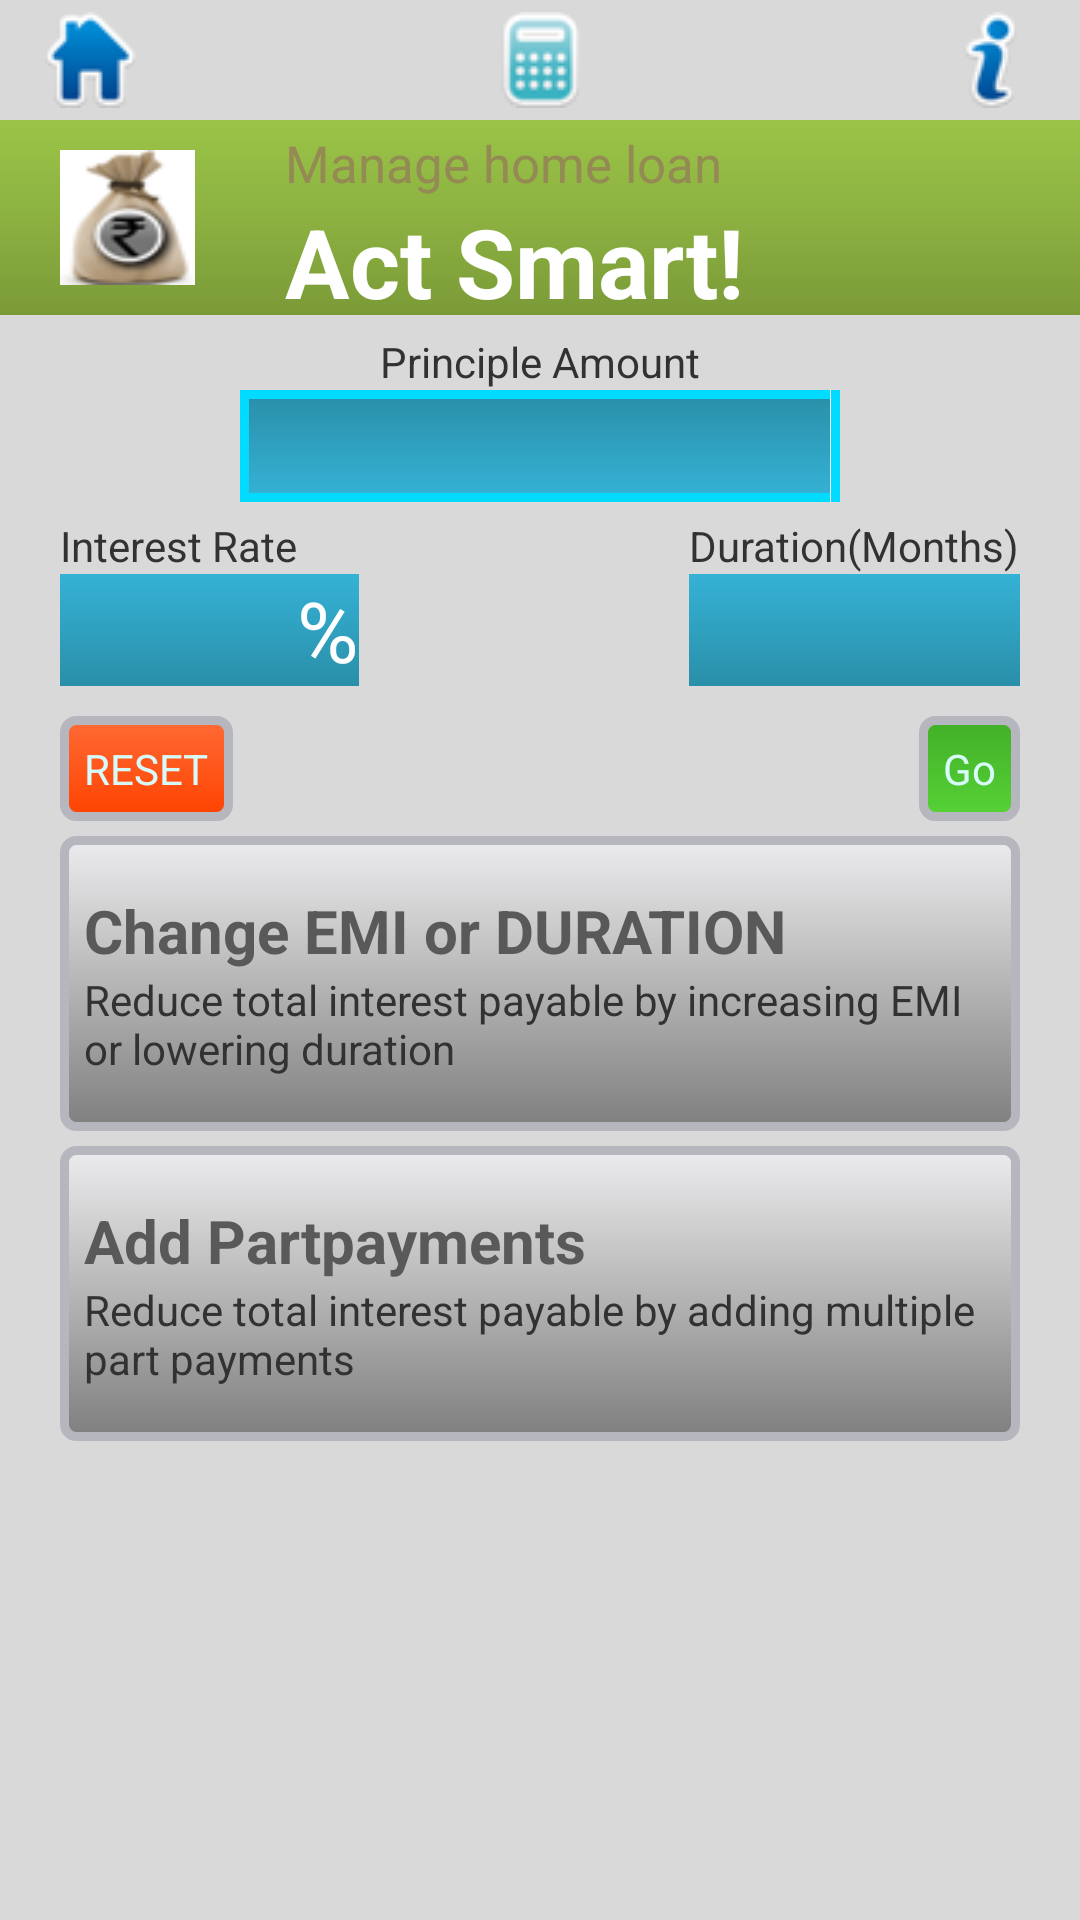

Where to tap for icons on this 1080w x 1920h app screen, as (x=x, y=y):
calculator: (x=540, y=59)
info: (x=991, y=59)
